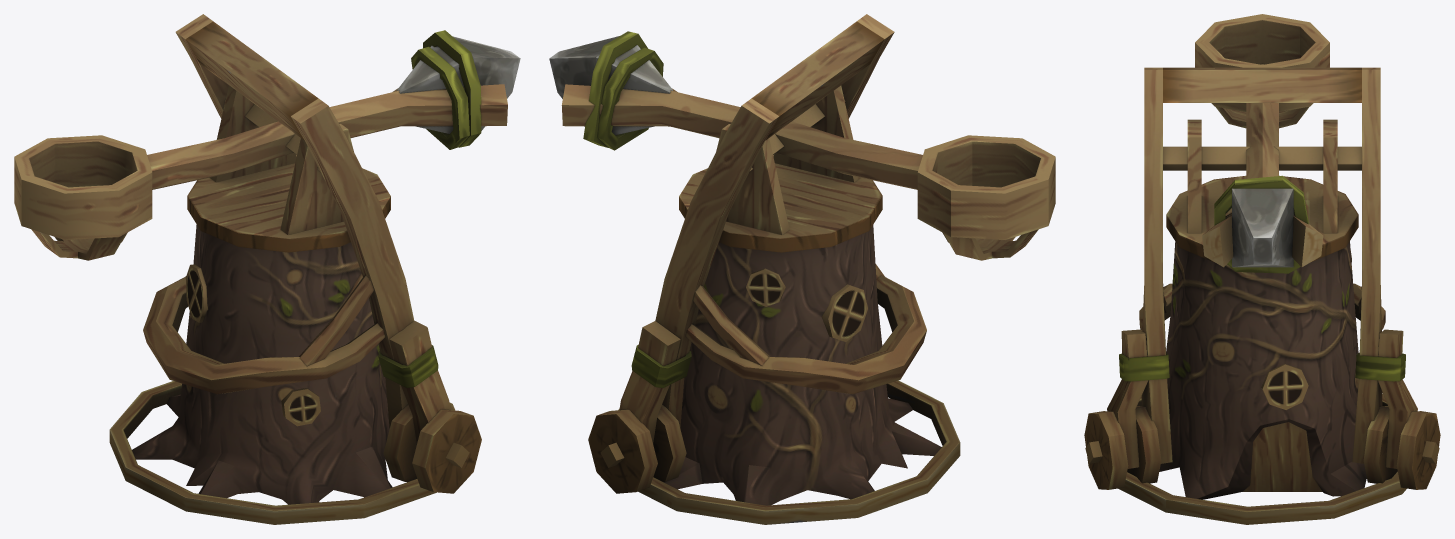
The model's file is woden_tower_low.FBX.
The picture shows the model from 3 angles, left to right: view 1: azimuth 30°, elevation 25°; view 2: azimuth 150°, elevation 25°; view 3: azimuth 270°, elevation 25°; orthographic projection. The views are drawn at different scales.
Parts seen in each view (by area): view 1: structure, stump, arm; view 2: structure, stump, arm; view 3: structure, stump, arm.
Boxes of the visible parts, x1,y1,x2,y2 form: structure: [143, 14, 481, 493]; stump: [109, 224, 455, 524]; arm: [14, 30, 520, 260]; structure: [588, 14, 926, 493]; stump: [618, 225, 960, 524]; arm: [549, 31, 1055, 260]; structure: [1084, 67, 1440, 489]; stump: [1118, 241, 1406, 524]; arm: [1195, 14, 1329, 273].
Size of the model in its own units: 573 by 437 by 378.
Materials: 1 (1 with a texture image).
